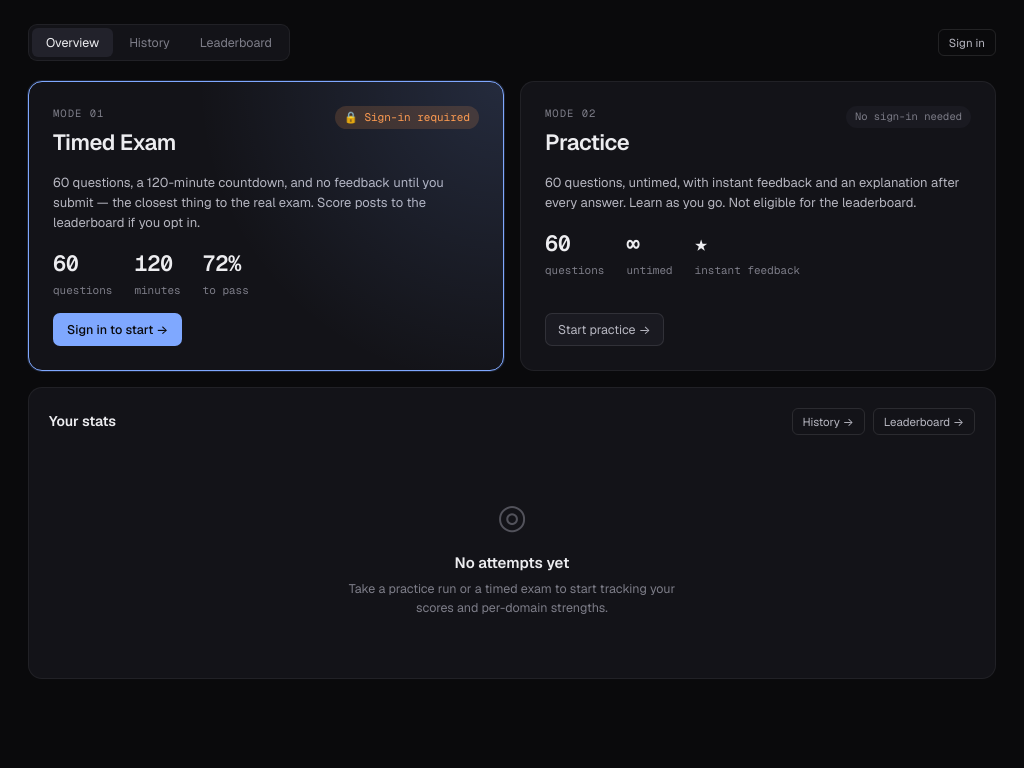
PracticeExam › reveals instant feedback after answering in practice mode
The image size is (1024, 768).
Click the button "Start practice →".
click(604, 329)  # box [545,313,664,346]
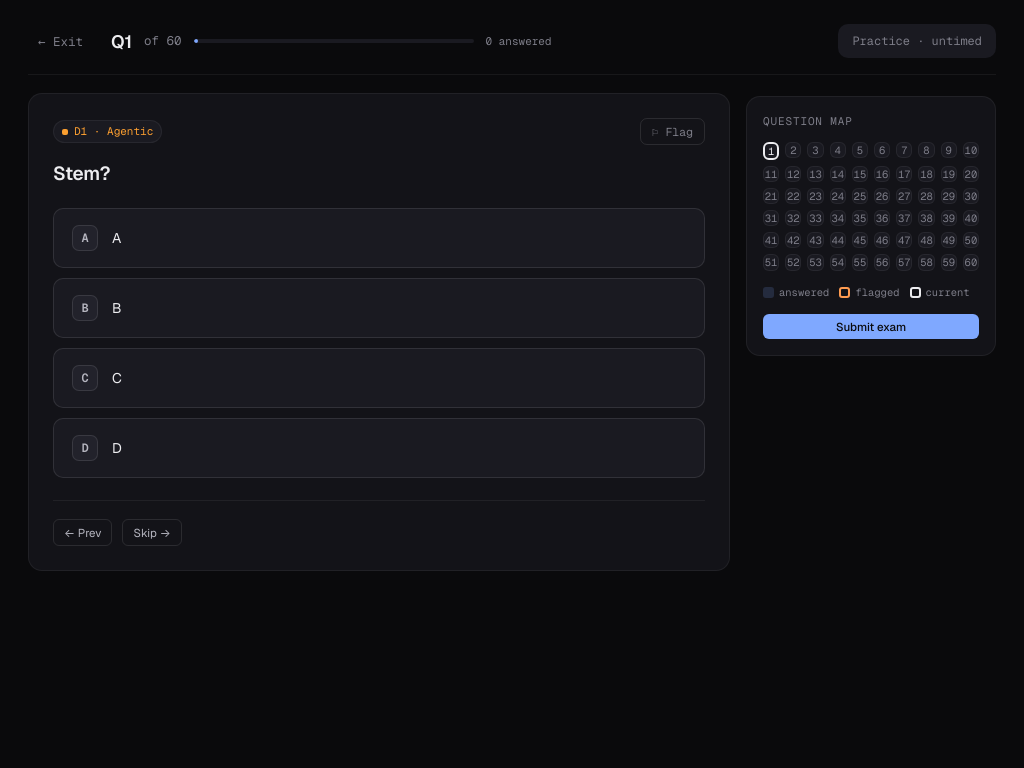
Now the text "of 60" is shown, box [144,32,182,50]
Now the text "D1 · Agentic" is shown, box [53,120,162,143]
# click the first option card (letter A)
Click the button "A A".
click(85, 238)  # box [53,208,705,268]
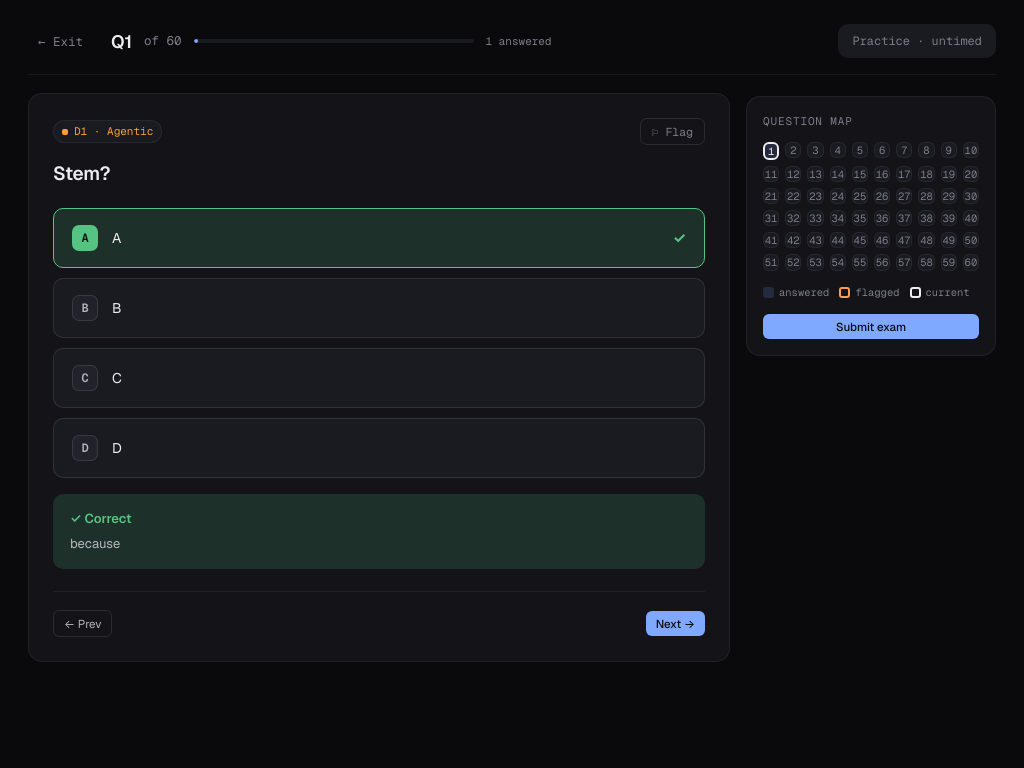
Now the element showing "✓ Correct because" is shown, box [53,494,705,569]
